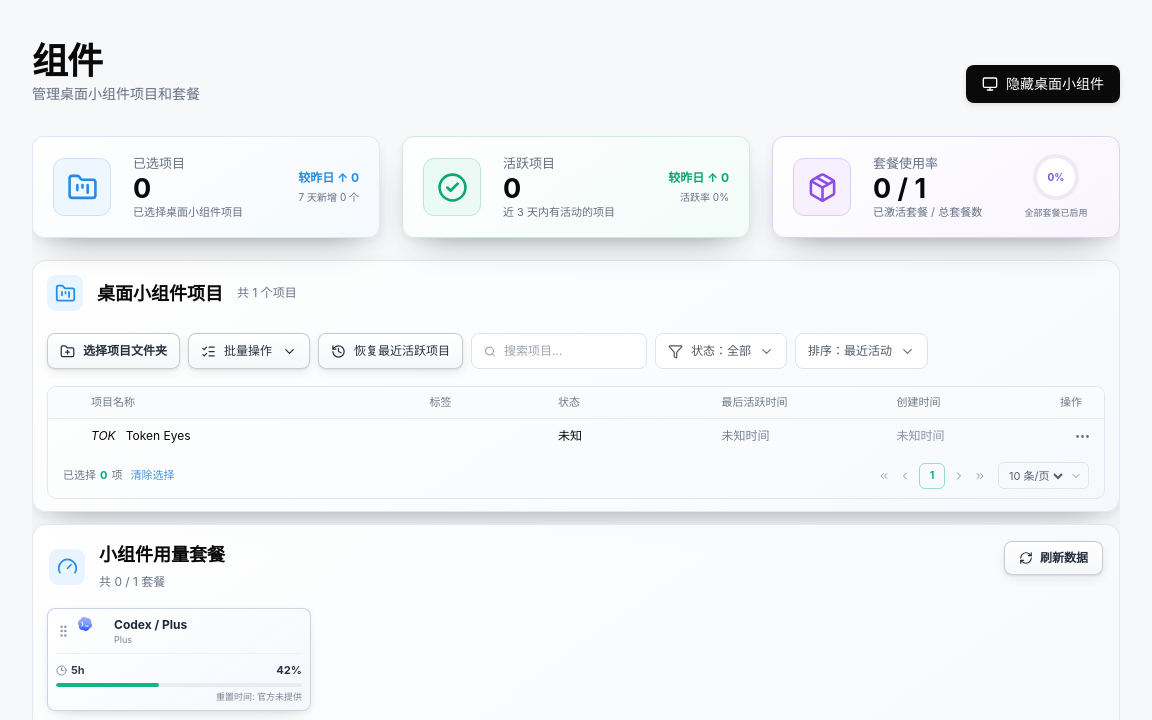
Test: WidgetsPage Windows desktop widget › keeps project and usage-plan settings collapsed by default and expands them independently
The width and height of the screenshot is (1152, 720).
Click the button "批量操作": click(249, 351) top-left (188, 333), bottom-right (310, 369)
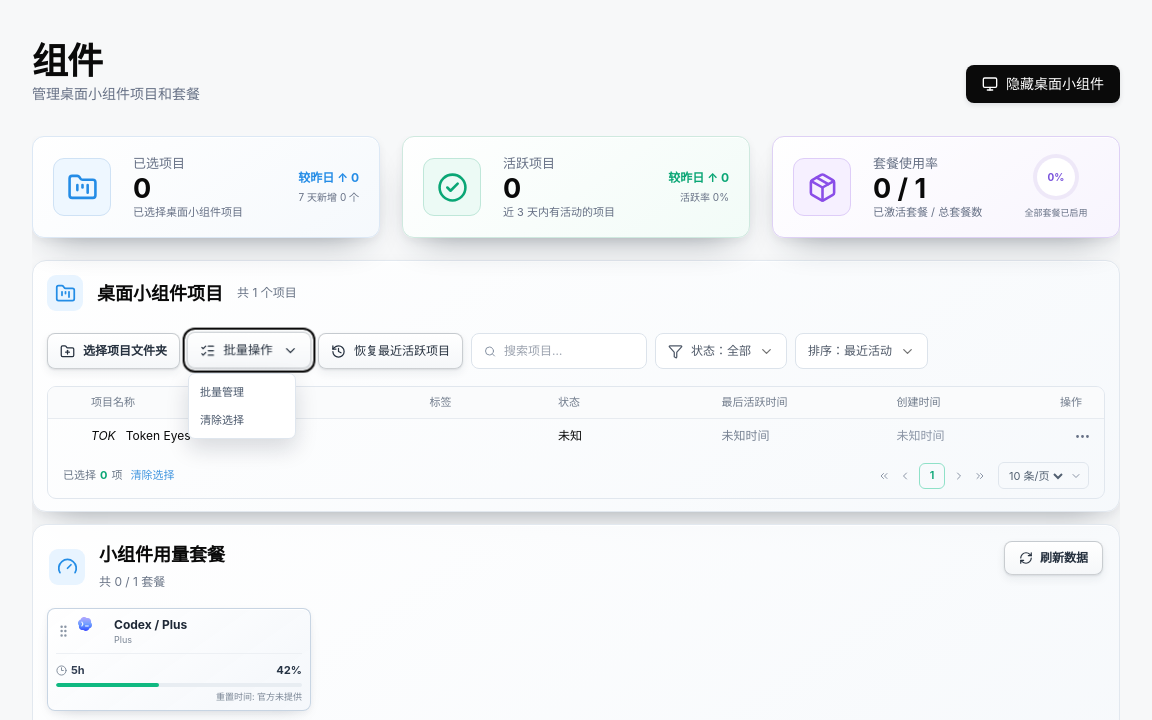
Click the menu item "批量管理": click(242, 392) top-left (193, 378), bottom-right (291, 406)
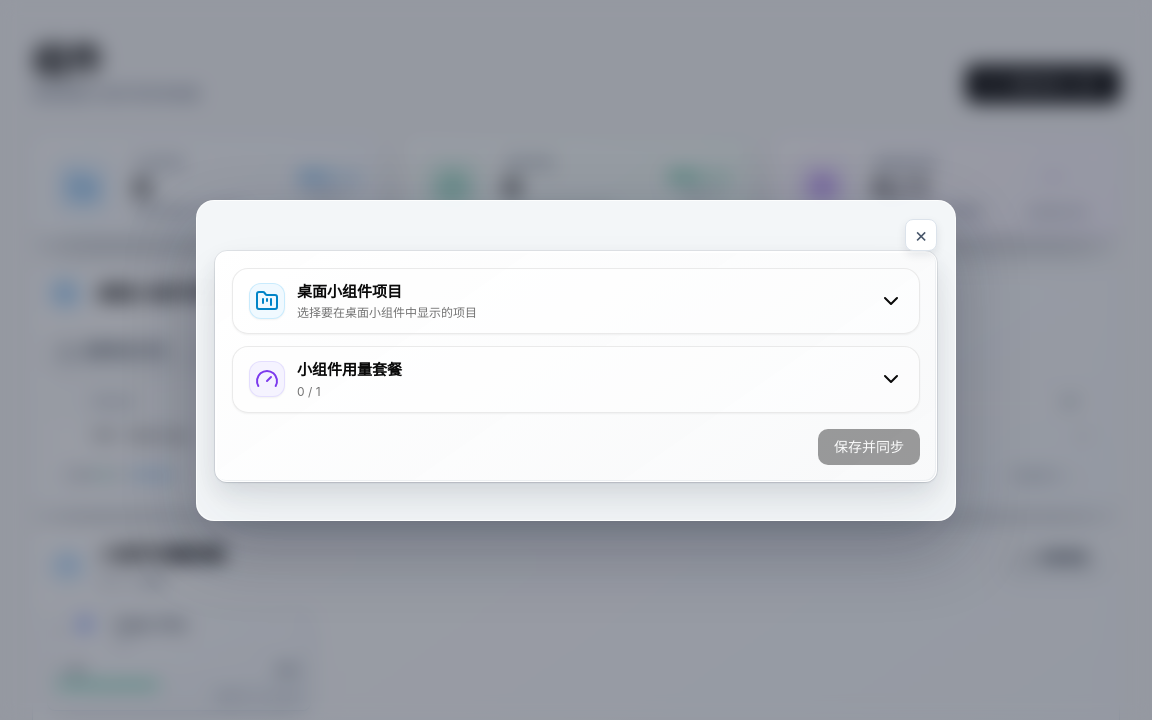
Expected: the checkbox labelled "Codex - Plus" is not shown
Click the button "桌面小组件项目 选择要在桌面小组件中显示的项目": click(267, 301) top-left (233, 268), bottom-right (919, 333)
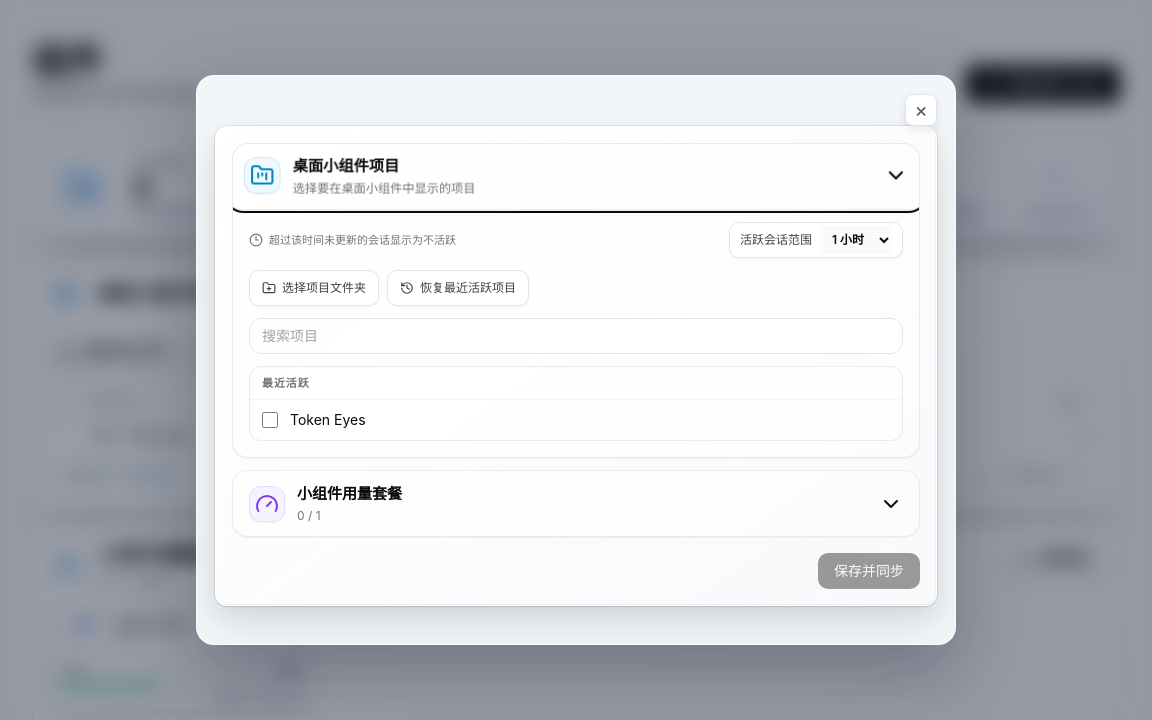
Now the search field labelled "搜索项目" is shown, box top-left (249, 318), bottom-right (903, 354)
Click the button "小组件用量套餐 0 / 1": click(267, 504) top-left (233, 471), bottom-right (919, 536)
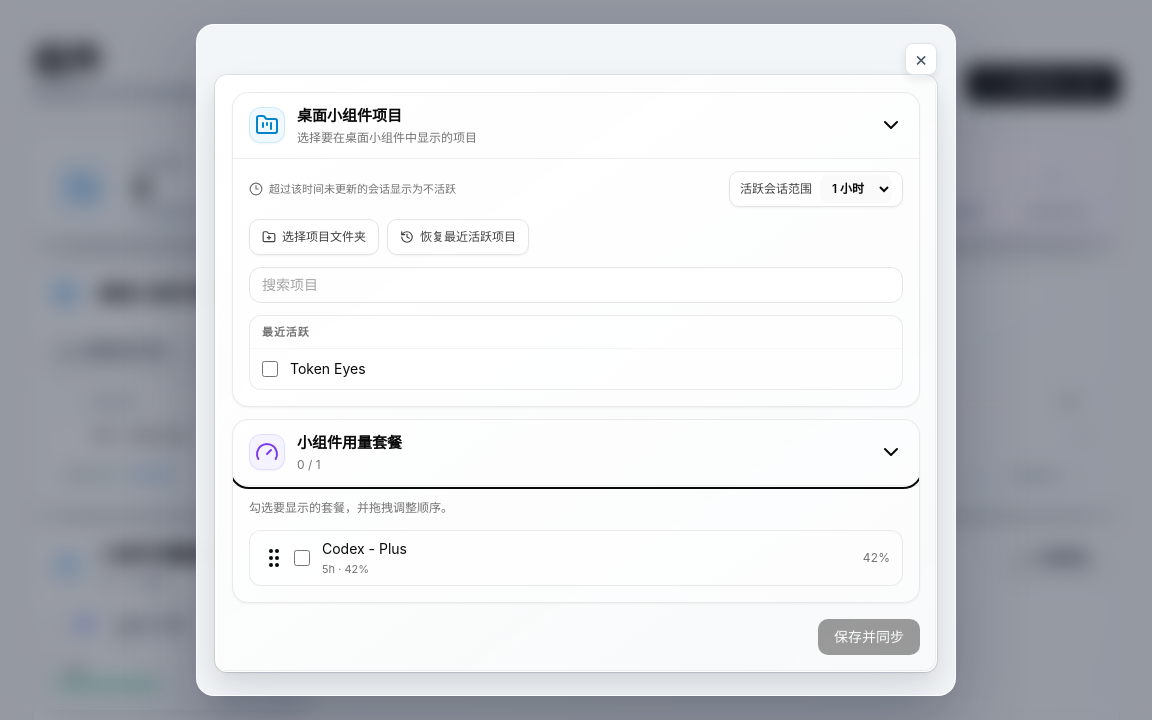
Now the checkbox labelled "Codex - Plus" is shown, box top-left (294, 550), bottom-right (310, 566)
